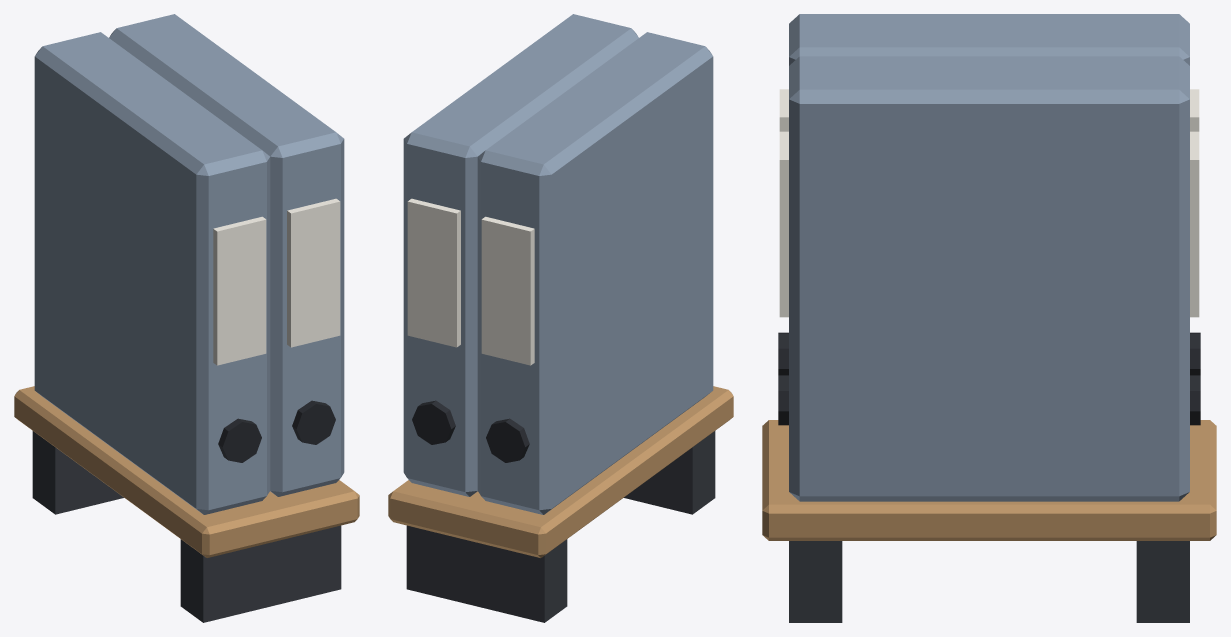
Rendered from delegation_m2_1.glb.
3 renders of one model, left to right at view 1: azimuth 30°, elevation 25°; view 2: azimuth 150°, elevation 25°; view 3: azimuth 270°, elevation 25°, orthographic. The views are drawn at different scales.
Parts seen in each view (by area): view 1: delegation_m2_1_mesh; view 2: delegation_m2_1_mesh; view 3: delegation_m2_1_mesh.
Boxes of the visible parts, x1,y1,x2,y2 form: delegation_m2_1_mesh: [14, 14, 359, 622]; delegation_m2_1_mesh: [388, 14, 733, 622]; delegation_m2_1_mesh: [762, 14, 1216, 622].
Size of the model in its own units: 0.16 by 0.44 by 0.34.
